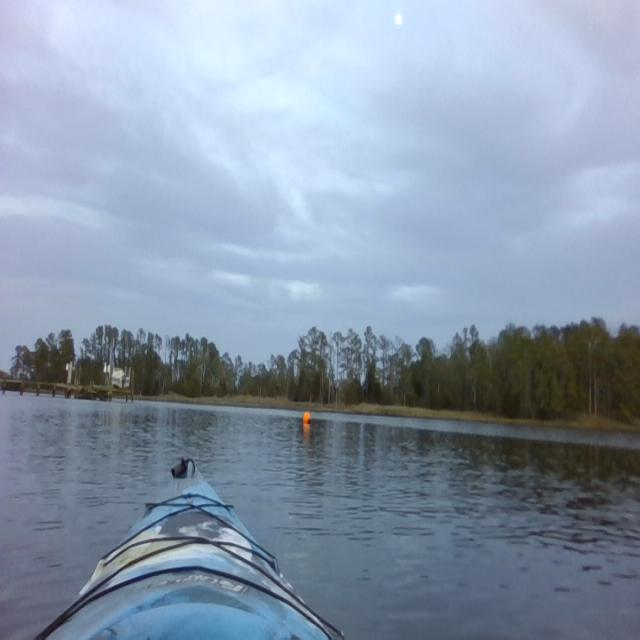Buoy: (302, 409, 312, 427)
